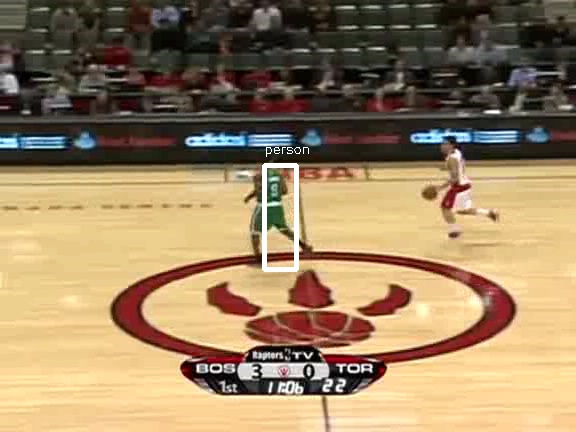person: (253, 163, 287, 244), (252, 163, 286, 244), (254, 163, 288, 244), (253, 162, 287, 243), (253, 164, 287, 245)
target_negative: (24, 15, 353, 195), (396, 316, 571, 407), (286, 310, 410, 390), (408, 307, 432, 432), (538, 106, 545, 259), (360, 13, 393, 21)
